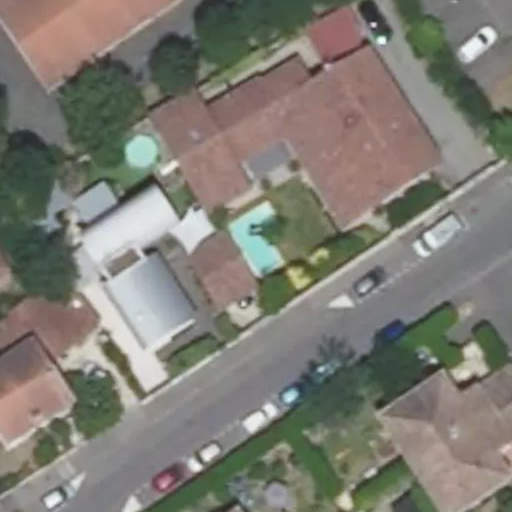pool: (229, 229, 295, 254)
